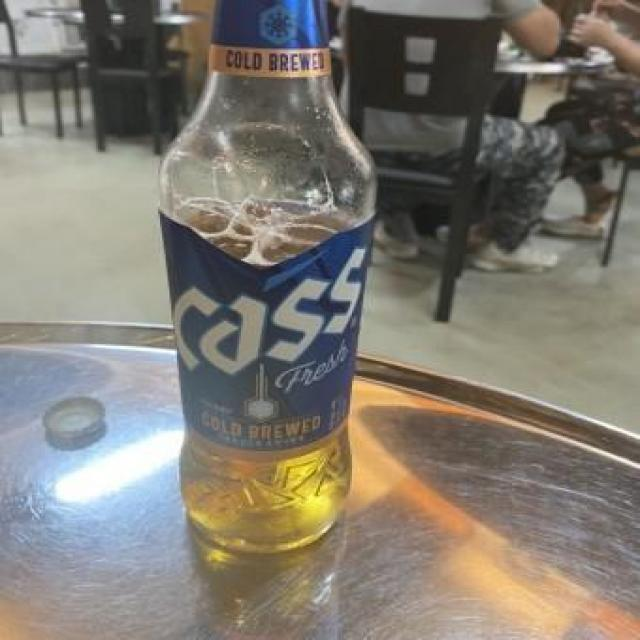beer-bottle: (154, 0, 380, 566)
